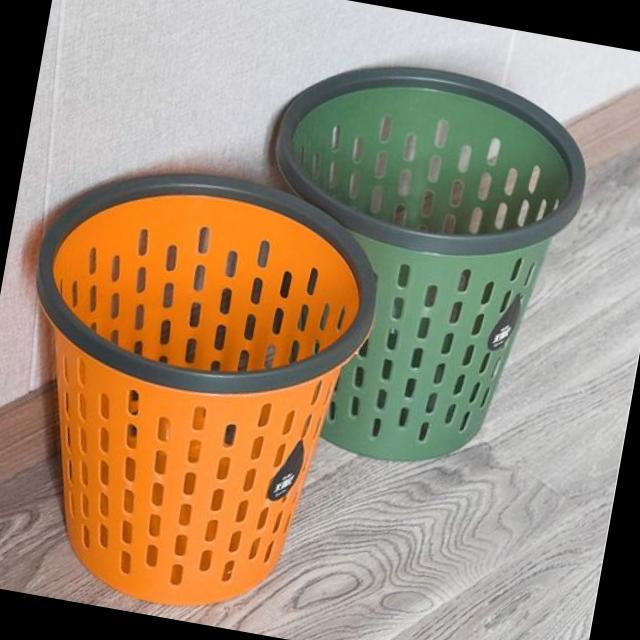dustbin: (0, 139, 398, 637), (215, 38, 604, 490)
